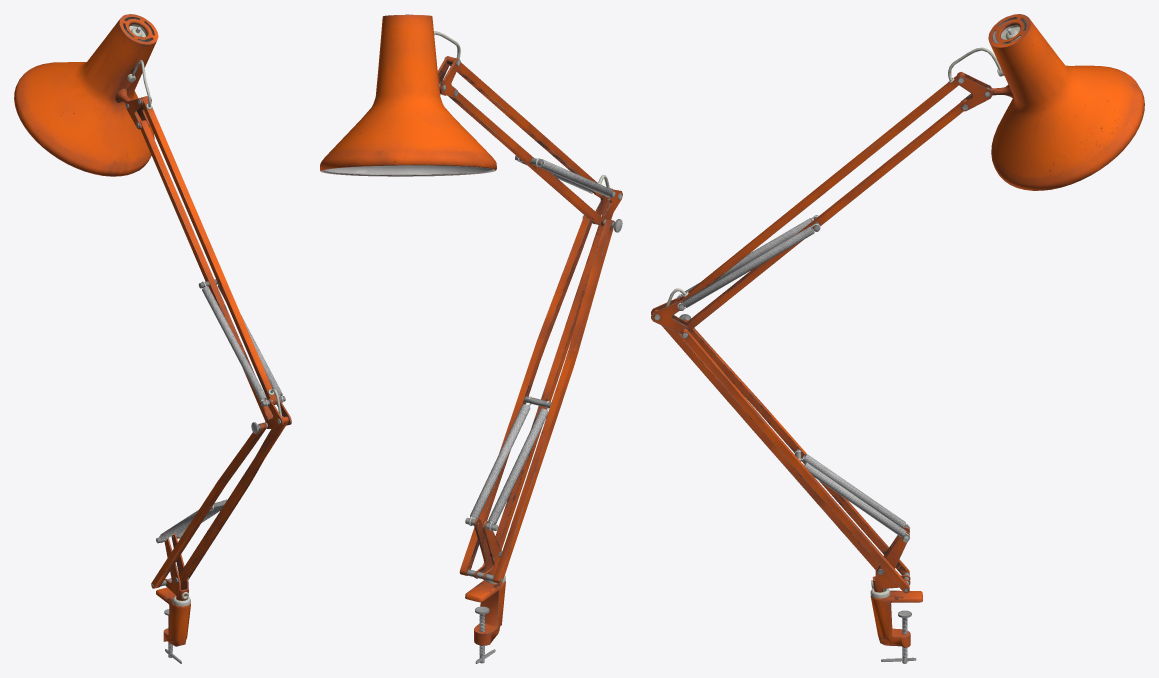
File: lamp-desk-arm.glb
3 renders of one model, left to right at view 1: azimuth 30°, elevation 25°; view 2: azimuth 150°, elevation 25°; view 3: azimuth 270°, elevation 25°, orthographic. The views are drawn at different scales.
Visible parts, largest first — view 1: desk_lamp_arm_01; view 2: desk_lamp_arm_01; view 3: desk_lamp_arm_01.
Part boxes in pixels (box(x1,y1,x2,y2)): desk_lamp_arm_01: box(14, 14, 291, 663); desk_lamp_arm_01: box(320, 14, 622, 663); desk_lamp_arm_01: box(651, 14, 1144, 663).
Bounding box in the file's own units: 0.2017 × 0.8926 × 0.6139.
2 materials, 2 textured.
